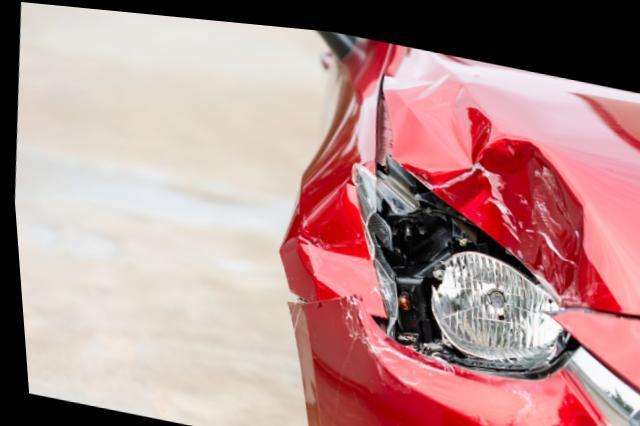dent: (383, 59, 588, 296), (296, 171, 382, 311)
lamp broken: (349, 162, 565, 363)
scratch: (336, 288, 551, 426)
